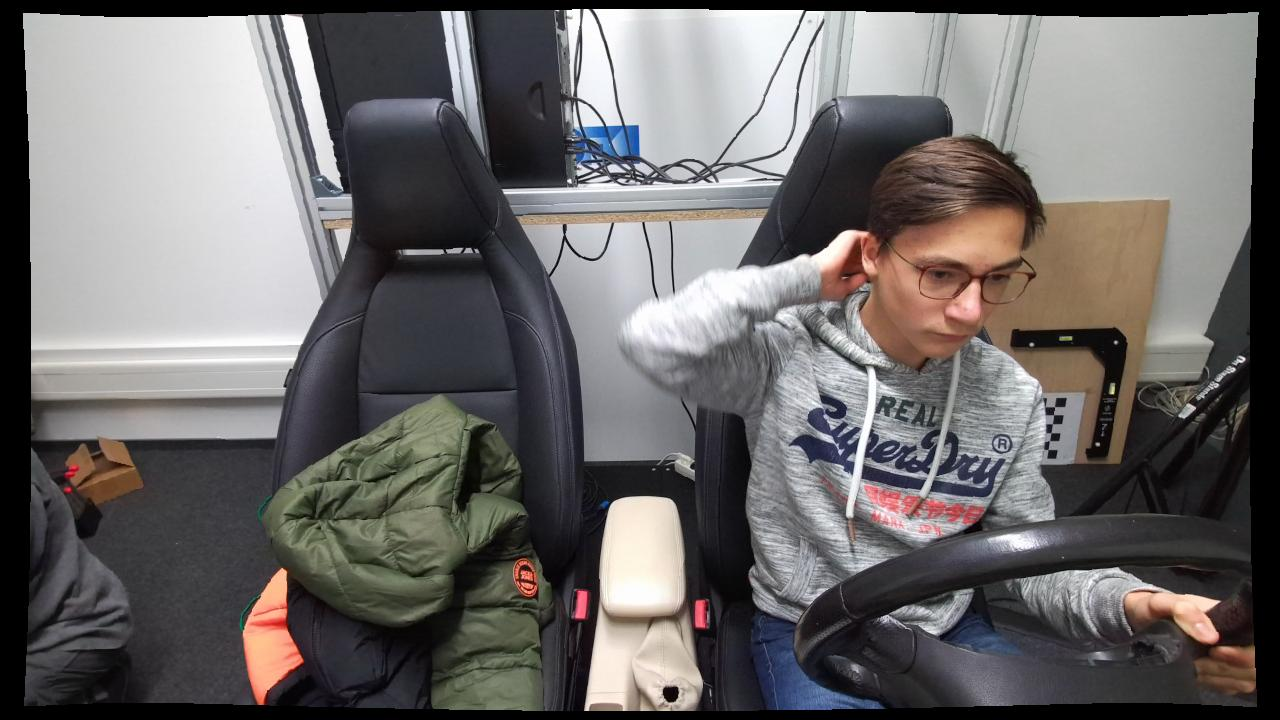Distracted: (615, 127, 1063, 713)
